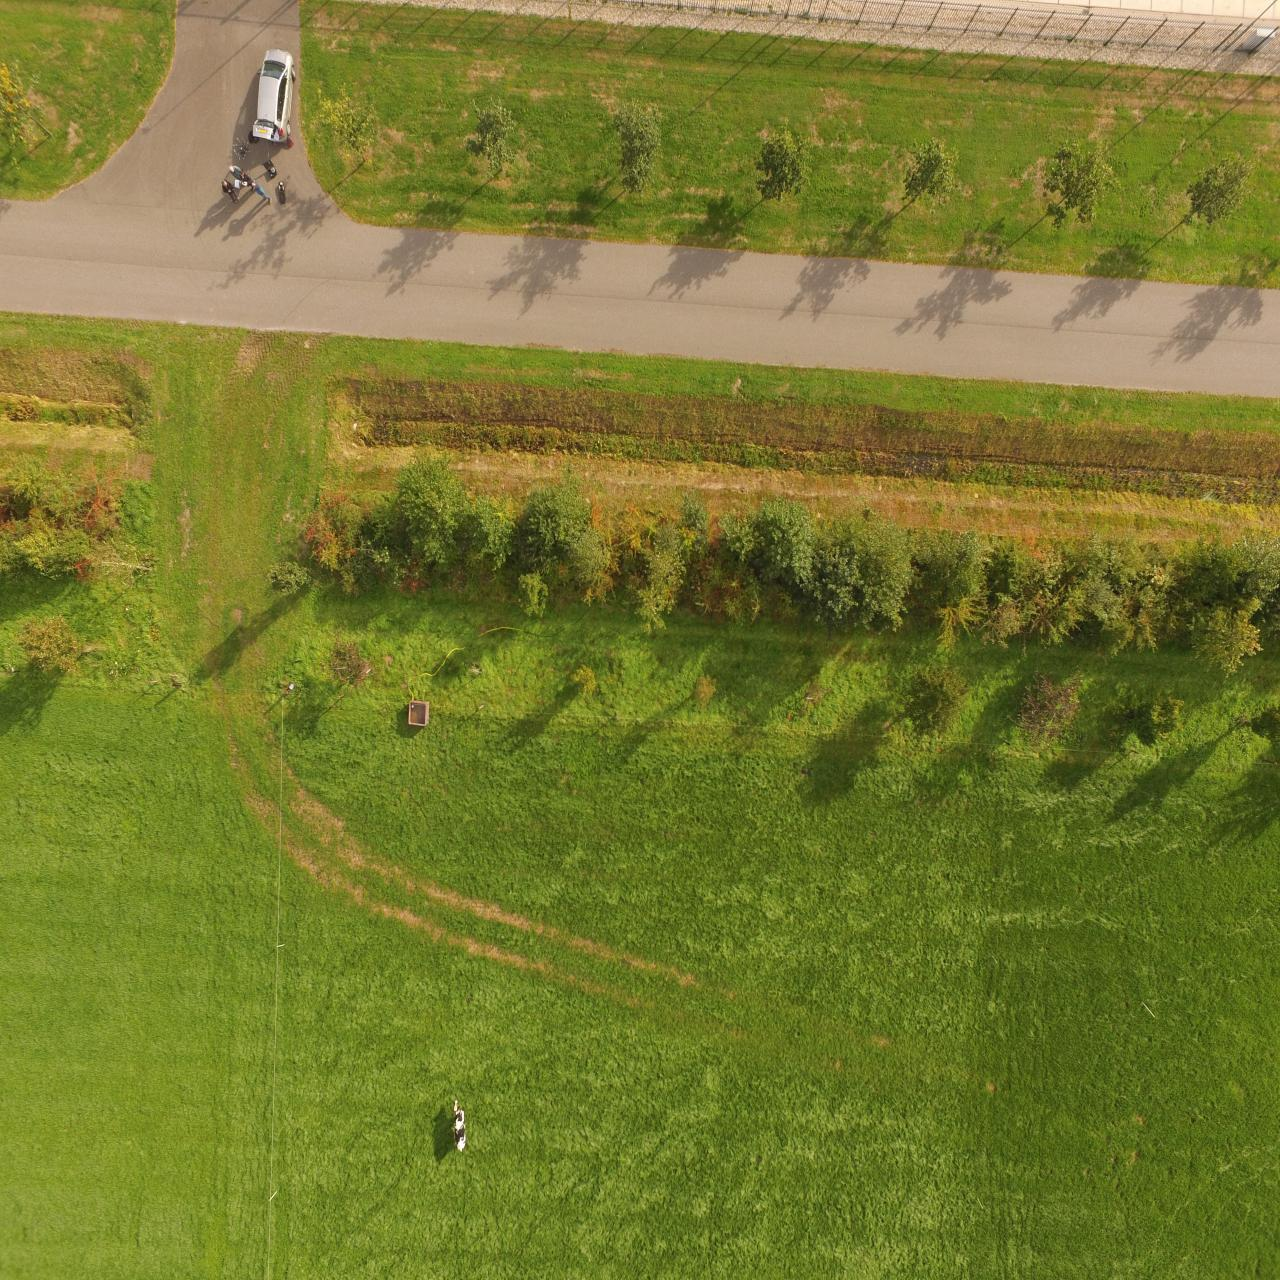cow: (450, 1094, 470, 1162)
